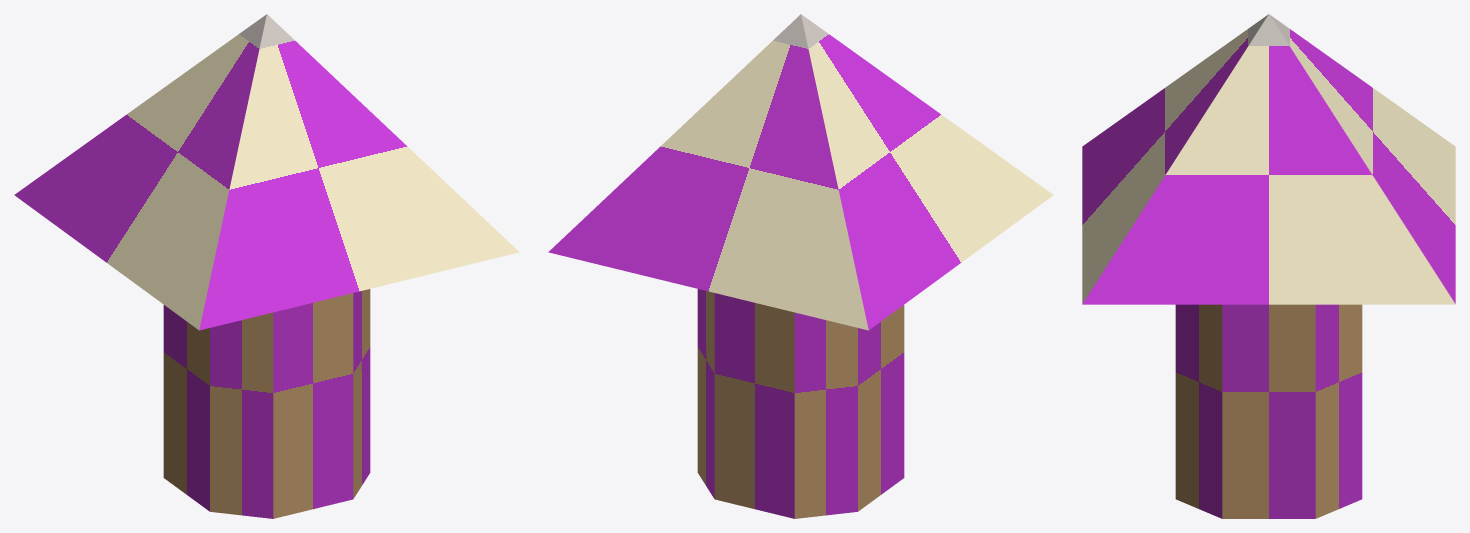
The model's file is tree.gltf.
3 renders of one model, left to right at view 1: azimuth 30°, elevation 25°; view 2: azimuth 150°, elevation 25°; view 3: azimuth 270°, elevation 25°, orthographic.
Size of the model in its own units: 2 by 2.75 by 2.
Materials: 1 (1 with a texture image).
